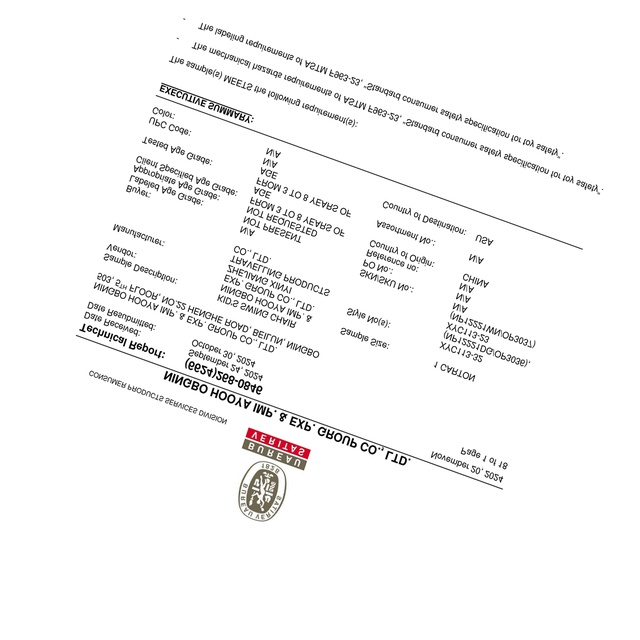bureau_veritas: (238, 428, 310, 523)
